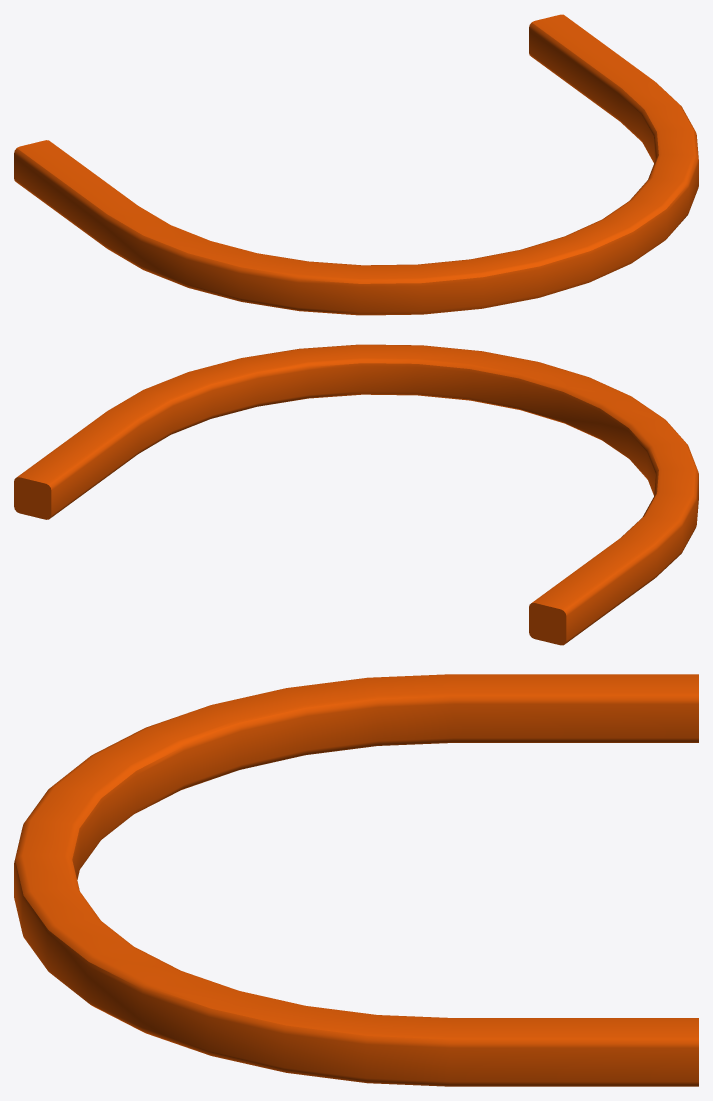
File: pickerv2.fbx
3 renders of one model, top to bottom at view 1: azimuth 30°, elevation 25°; view 2: azimuth 150°, elevation 25°; view 3: azimuth 270°, elevation 25°, orthographic. The views are drawn at different scales.
Parts seen in each view (by area): view 1: Circle.001; view 2: Circle.001; view 3: Circle.001.
Part boxes in pixels (left/top/right/bottom): Circle.001: left=14, top=14, right=698, bottom=315; Circle.001: left=14, top=344, right=698, bottom=645; Circle.001: left=14, top=674, right=698, bottom=1086.
Bounding box in the file's own units: 1013 × 63.29 × 795.
